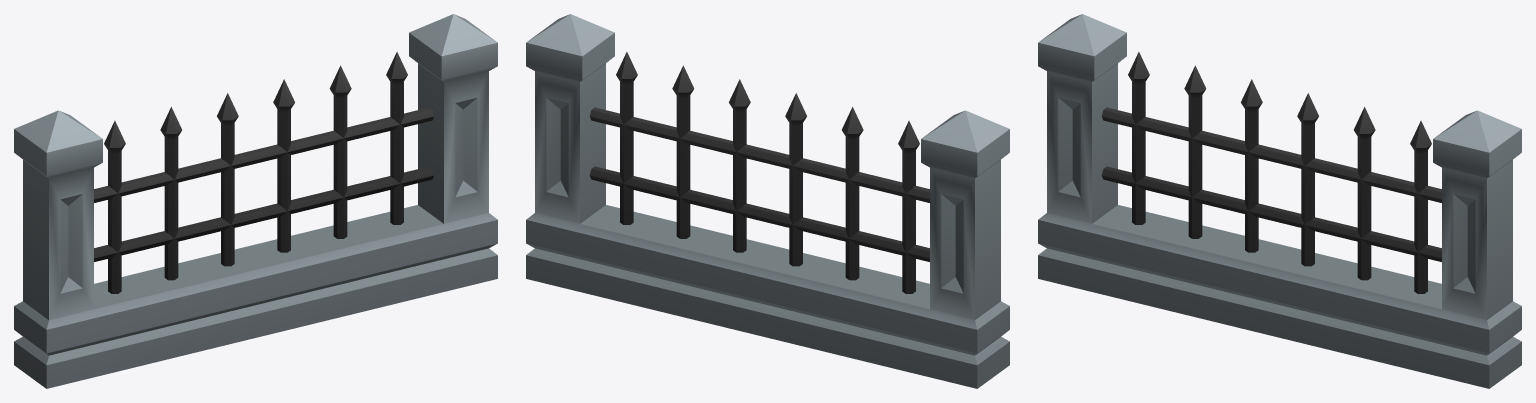
The model's file is d_kaykit_grille.glb.
3 views of the same model, side by side, from view 1: azimuth 30°, elevation 25°; view 2: azimuth 150°, elevation 25°; view 3: azimuth 330°, elevation 25° (orthographic).
Parts seen in each view (by area): view 1: d_kaykit_grille; view 2: d_kaykit_grille; view 3: d_kaykit_grille.
Part boxes in pixels (x1,y1,x2,y2): d_kaykit_grille: (14,14,497,388); d_kaykit_grille: (526,14,1009,388); d_kaykit_grille: (1038,14,1521,388).
Size of the model in its own units: 4 by 2.2 by 0.5.
Materials: 1 (1 with a texture image).
